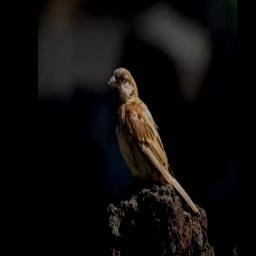Sparrow: (107, 66, 200, 216)
